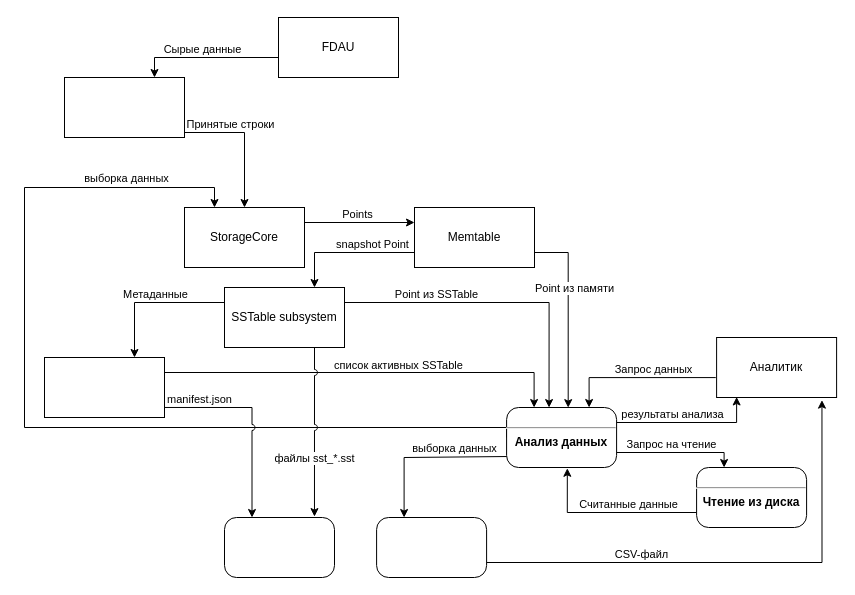
Some shapes in this 855 by 595 pixel diagram are drawn without their labels. Here are the shapes that lost their labels. From the top down, the centre of each, then its label:
the point at 124,107: Ingest layer
the point at 104,387: Manifest store
the point at 279,547: Запись на диск
the point at 431,547: Экспорт CSV
